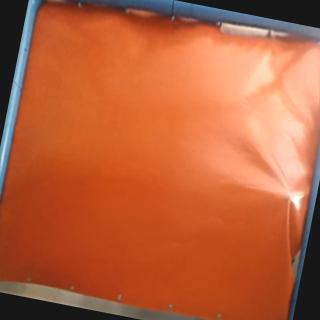Hit-hRxx: (280, 188, 301, 207)
